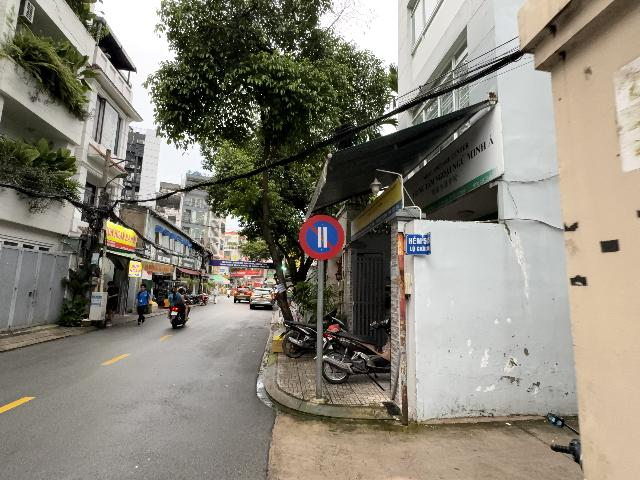cam-do-xe-ngay-chan: (300, 215, 345, 260)
